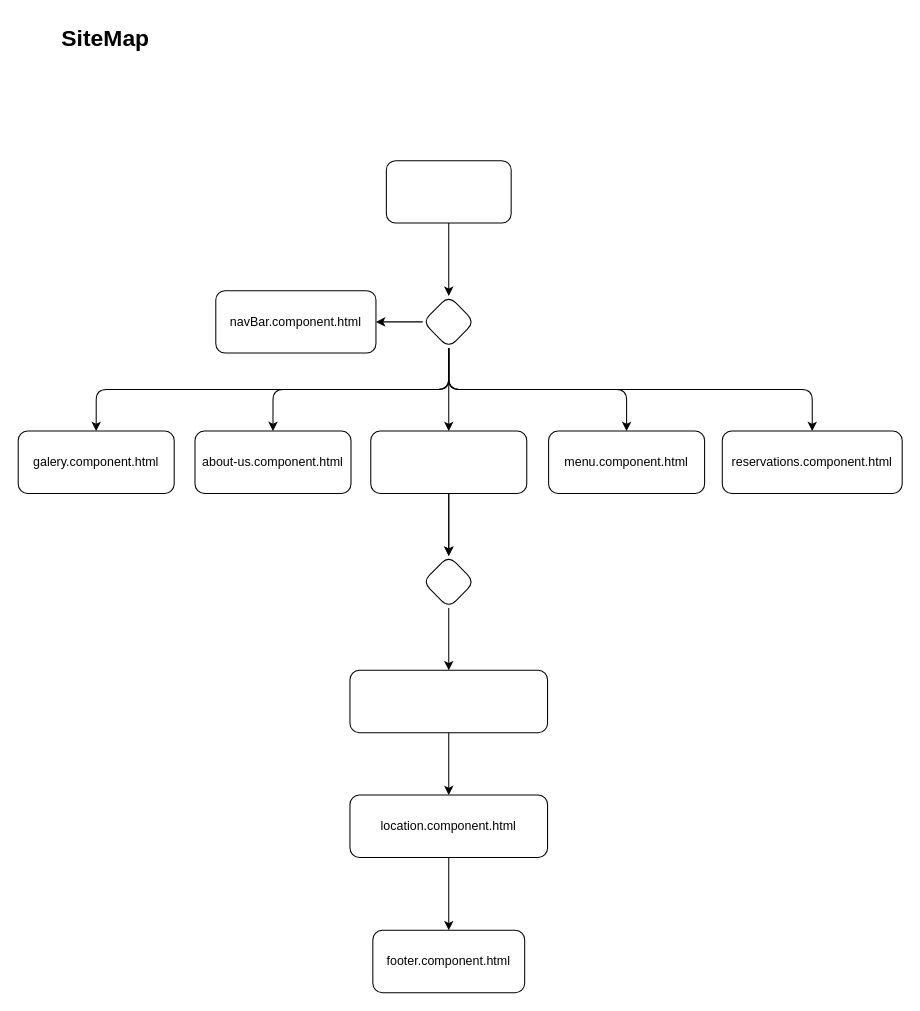
Image size: 920x1011. Some labels were removed from this diagram. The shapes that lost their labels are listed below. From the top down, each one's box as (x1, y1, x2, y2) in pixels, then its label:
(385, 160, 511, 223): app.component.html
(370, 430, 527, 493): main.component.html
(349, 669, 548, 733): form-contact.component.html
